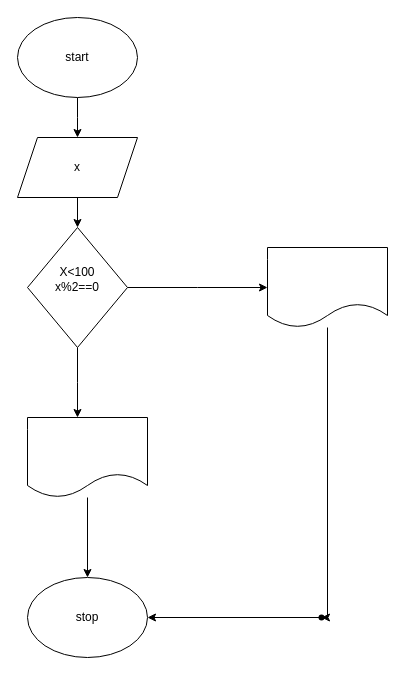
The diagram is 405 pixels wide and 675 high, and some of its shapes have lost their labels. The shapes that lost their labels are listed below. From the top down, each one's centre as x and y in pixels, then its label:
At pixel 327 287: "hecbir sert dogru deyil".
At pixel 87 457: "sert dogrudur".
